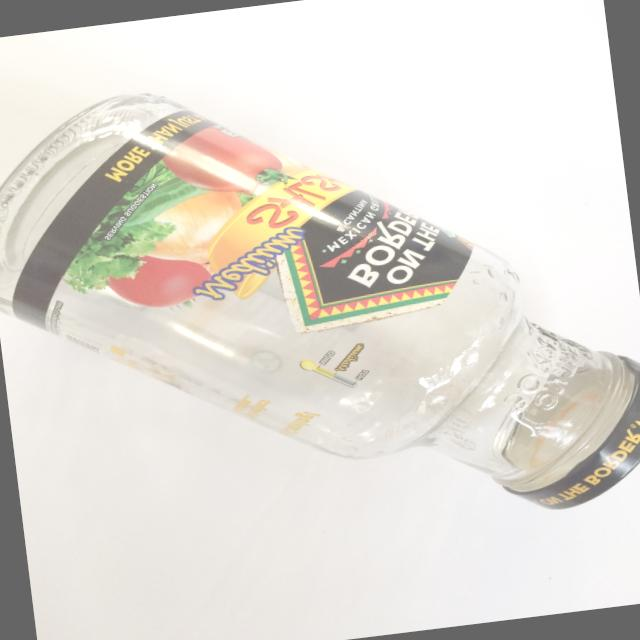Glass: (0, 24, 640, 586)
